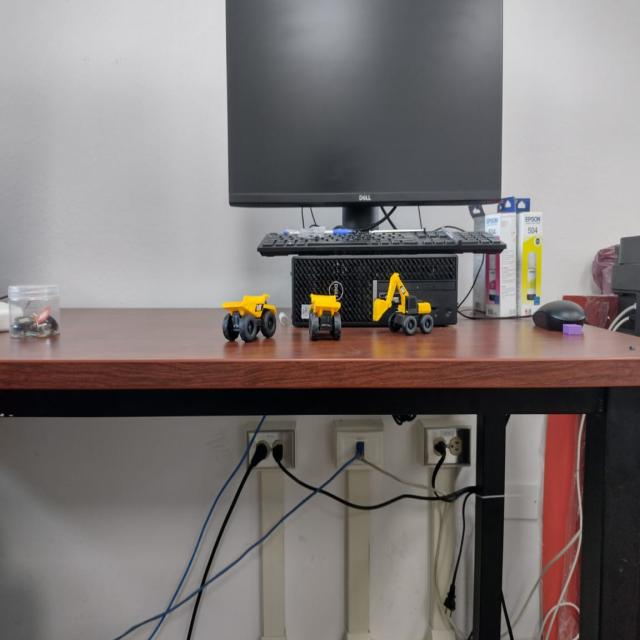dump-truck: (220, 290, 279, 343), (306, 292, 342, 340)
excavator: (372, 271, 434, 337)
